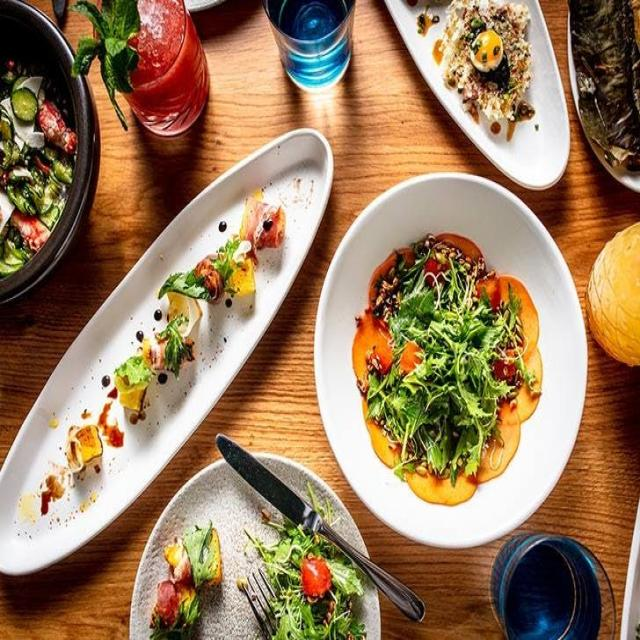cocktail: (491, 536, 602, 640), (274, 0, 357, 89)
nuoc ep trai cay: (122, 0, 210, 149)
